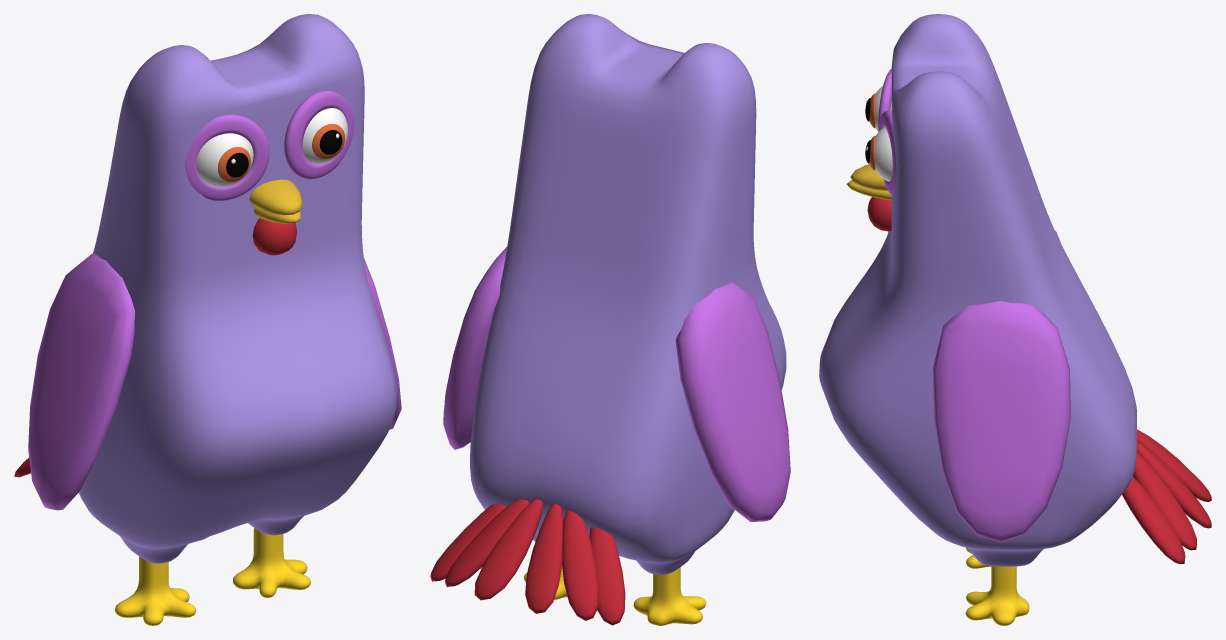
The model's file is Bird.fbx.
3 views of the same model, side by side, from view 1: azimuth 30°, elevation 25°; view 2: azimuth 150°, elevation 25°; view 3: azimuth 270°, elevation 25° (orthographic). The views are drawn at different scales.
Parts seen in each view (by area): view 1: bird; view 2: bird; view 3: bird.
Boxes of the visible parts, x1,y1,x2,y2 form: bird: (14,14,401,625); bird: (430,14,790,625); bird: (819,14,1211,625).
Size of the model in its own units: 319 by 524 by 344.
